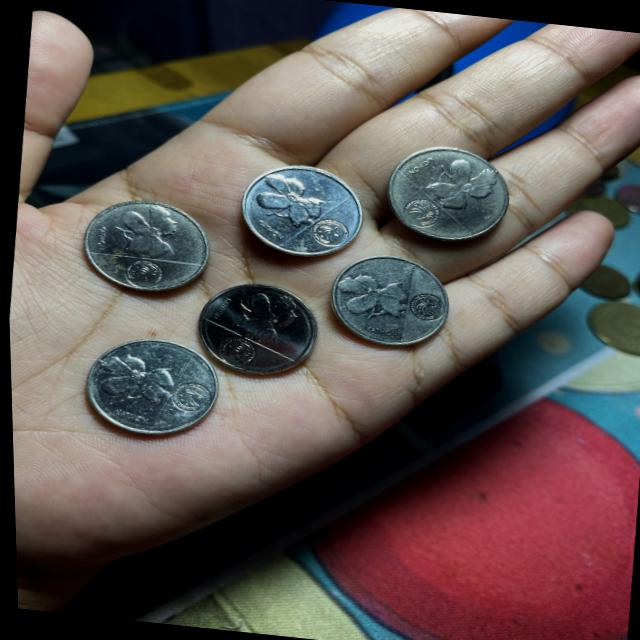25Cent_New_Back: (90, 344, 171, 414), (331, 270, 411, 330), (103, 201, 181, 258), (246, 167, 315, 223), (428, 150, 484, 218)
